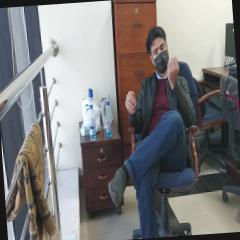not-gloved: (166, 56, 181, 86), (124, 91, 138, 114)
